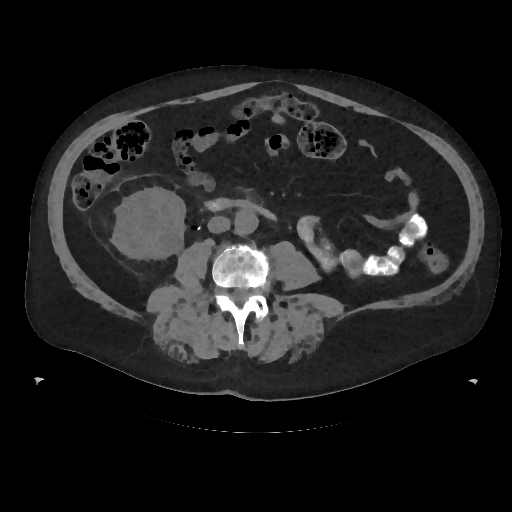Lesion: (112, 192, 187, 261)
